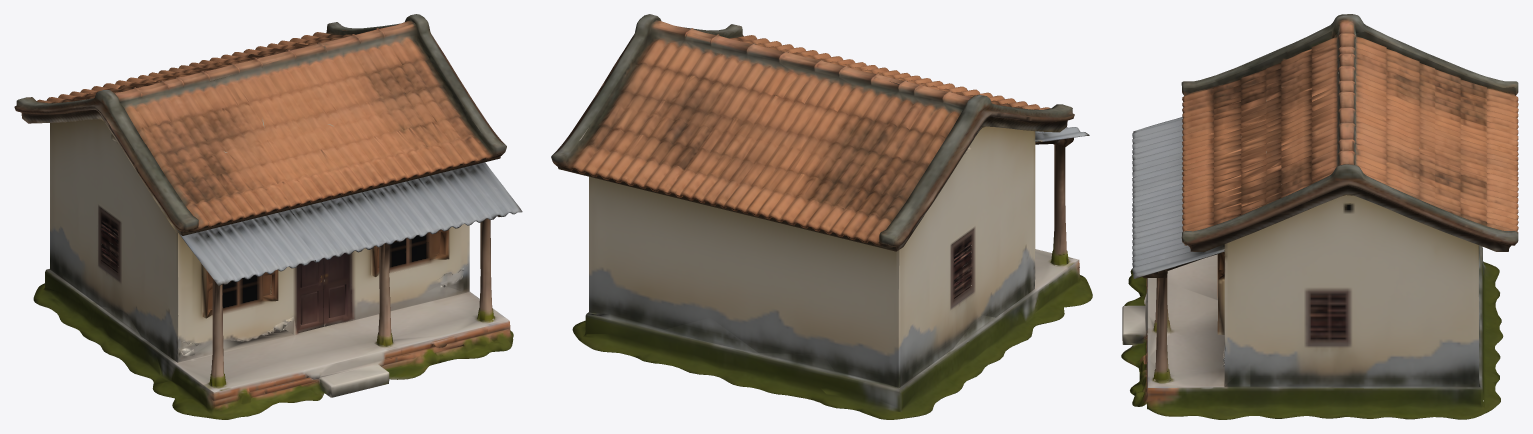
File: NhaQue_Tencent_01.fbx
3 renders of one model, left to right at view 1: azimuth 30°, elevation 25°; view 2: azimuth 150°, elevation 25°; view 3: azimuth 270°, elevation 25°, orthographic. The views are drawn at different scales.
Visible parts, largest first — view 1: Nha01_LOD0; view 2: Nha01_LOD0; view 3: Nha01_LOD0.
Boxes of the visible parts, bbox=[...] form: Nha01_LOD0: bbox=[14, 14, 522, 419]; Nha01_LOD0: bbox=[551, 14, 1092, 419]; Nha01_LOD0: bbox=[1121, 14, 1518, 419].
Size of what is drawn, in the model's own units: 7.2 by 5.07 by 7.34.
